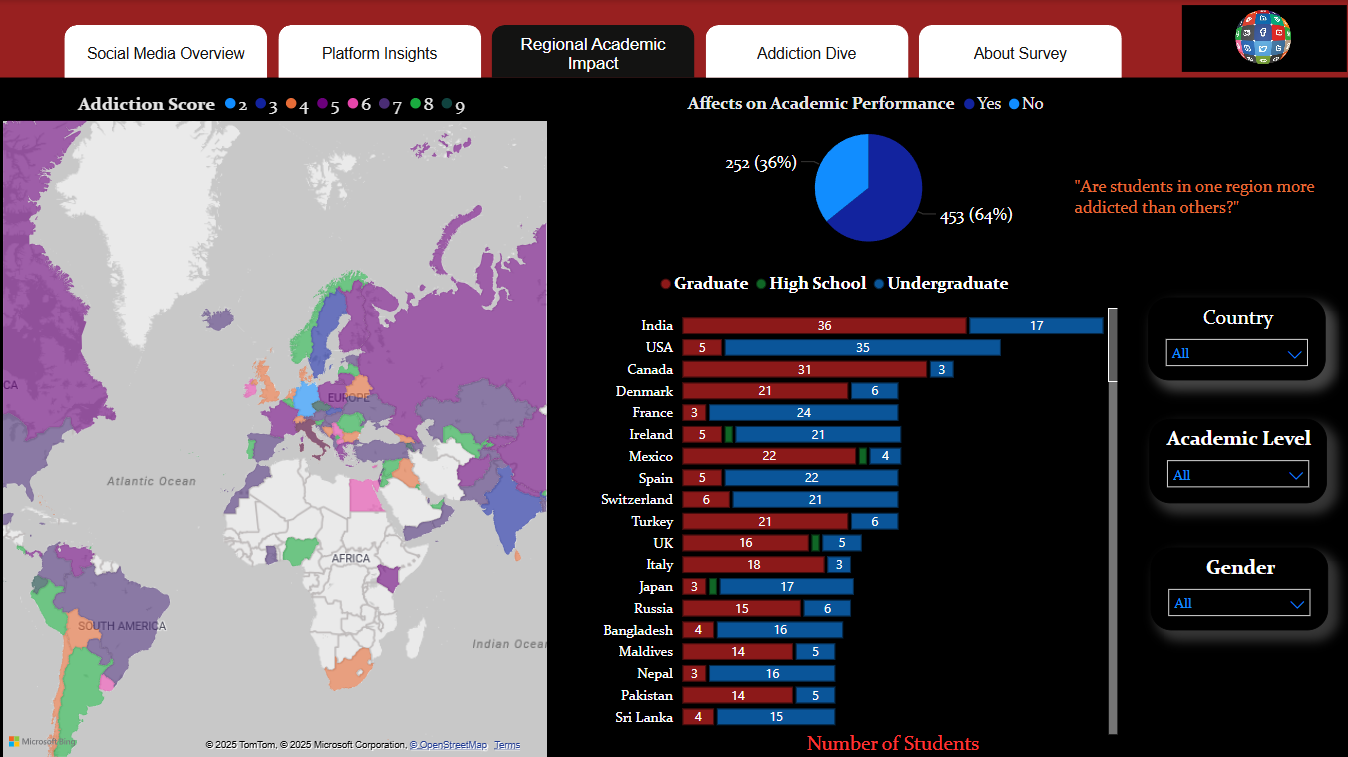

Layout of this report page (visuals, bound fields, positions):
{"tool":"powerbi","page":{"name":"Regional Academic Impact","canvas":[1280,720],"ordinal":2},"visuals":[{"type":"barChart","fields":{"Category":["Students Social Media Addiction.Country"],"Series":["Students Social Media Addiction.Academic_Level"],"Y":["CountNonNull(Students Social Media Addiction.Student_ID)"]},"box":[522.2,246.9,541.1,471.9],"z":0},{"type":"slicer","title":"Gender","fields":{"Values":["Students Social Media Addiction.Gender"]},"box":[1090,517.5,168.3,78.6],"z":1000},{"type":"slicer","title":"Academic Level","fields":{"Values":["Students Social Media Addiction.Academic_Level"]},"box":[1088.4,396.4,168.3,80.2],"z":2000},{"type":"slicer","title":"Country","fields":{"Values":["Students Social Media Addiction.Country"]},"box":[1086.9,281.5,168.3,78.6],"z":3000},{"type":"shape","box":[0,0,1280.3,73.3],"z":4000},{"type":"image","box":[1114.6,0,165.6,73.3],"z":5000},{"type":"pageNavigator","box":[62.5,23.1,1000.6,50.2],"z":6000},{"type":"pieChart","fields":{"Category":["Students Social Media Addiction.Affects_Academic_Performance"],"Y":["CountNonNull(Students Social Media Addiction.Student_ID)"]},"box":[366.5,77.1,913.8,169.9],"z":7000},{"type":"filledMap","fields":{"Category":["Students Social Media Addiction.Country"],"Series":["Students Social Media Addiction.Addicted_Score"]},"box":[0,75.5,523.8,644.9],"z":8000},{"type":"textbox","box":[1012.9,162,245,67.2],"z":8001}]}

Visuals, with their boxes in screenshot pixels (x1, y1, x2, y2), scaled from the page's 1280x720 canvas onto the 1348x757 screenshot:
barChart - Students Social Media Addiction.Country x Students Social Media Addiction.Academic_Level: {"x1": 550, "y1": 260, "x2": 1120, "y2": 756}
"Gender" slicer: {"x1": 1148, "y1": 544, "x2": 1325, "y2": 627}
"Academic Level" slicer: {"x1": 1146, "y1": 417, "x2": 1323, "y2": 501}
"Country" slicer: {"x1": 1145, "y1": 296, "x2": 1322, "y2": 379}
shape: {"x1": 0, "y1": 0, "x2": 1347, "y2": 77}
image: {"x1": 1174, "y1": 0, "x2": 1347, "y2": 77}
pageNavigator: {"x1": 66, "y1": 24, "x2": 1120, "y2": 77}
pieChart - Students Social Media Addiction.Affects_Academic_Performance x CountNonNull(Students Social Media Addiction.Student_ID): {"x1": 386, "y1": 81, "x2": 1347, "y2": 260}
filledMap - Students Social Media Addiction.Country x Students Social Media Addiction.Addicted_Score: {"x1": 0, "y1": 79, "x2": 552, "y2": 756}
textbox: {"x1": 1067, "y1": 170, "x2": 1325, "y2": 241}
